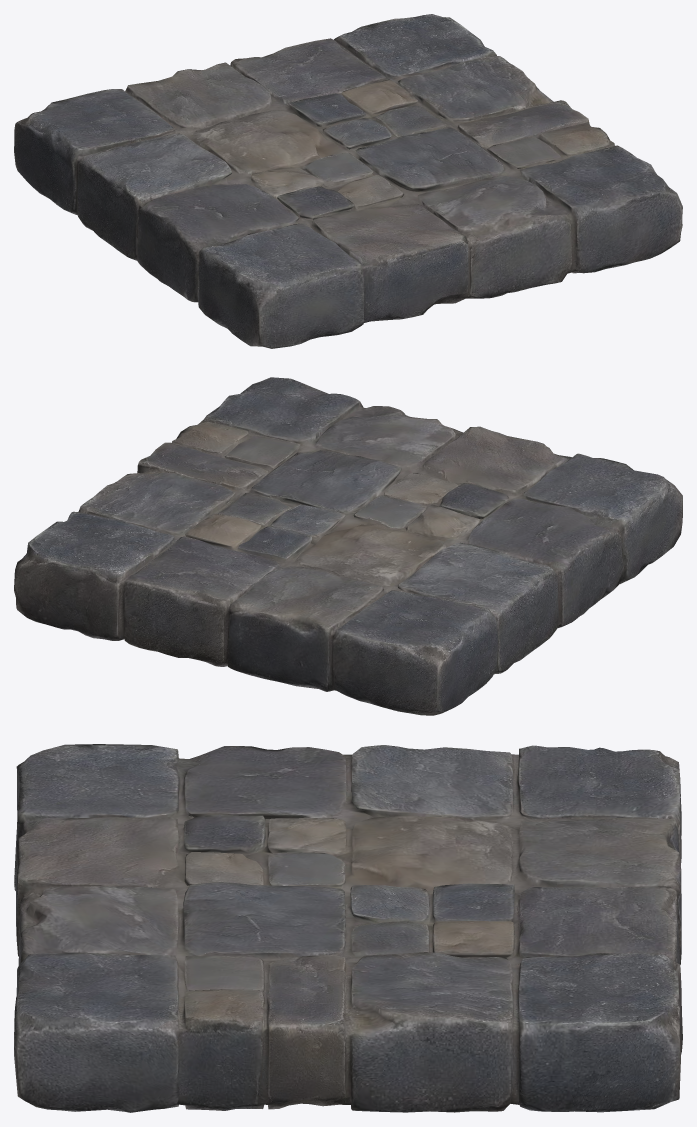
3 views of the same model, one above another, from view 1: azimuth 30°, elevation 25°; view 2: azimuth 150°, elevation 25°; view 3: azimuth 270°, elevation 25° (orthographic). The views are drawn at different scales.
Visible parts, largest first — view 1: tripo_node_c6e4fab5-3243-4f2c-8226-59d146498117; view 2: tripo_node_c6e4fab5-3243-4f2c-8226-59d146498117; view 3: tripo_node_c6e4fab5-3243-4f2c-8226-59d146498117.
Part boxes in pixels (bbox=[...]): tripo_node_c6e4fab5-3243-4f2c-8226-59d146498117: bbox=[14, 14, 682, 348]; tripo_node_c6e4fab5-3243-4f2c-8226-59d146498117: bbox=[14, 377, 682, 715]; tripo_node_c6e4fab5-3243-4f2c-8226-59d146498117: bbox=[14, 744, 682, 1112].
Bounding box in the file's own units: 1 × 0.1681 × 0.9988.
Materials: 1 (1 with a texture image).
